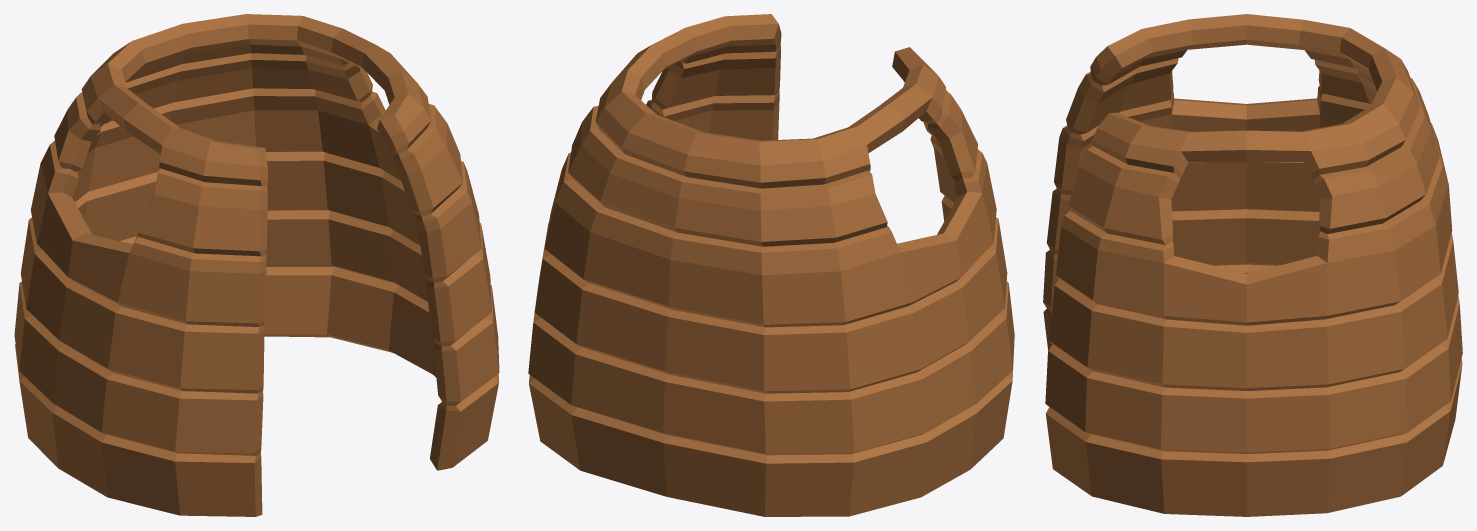
File: Body_PuffVest.fbx
3 views of the same model, side by side, from view 1: azimuth 30°, elevation 25°; view 2: azimuth 150°, elevation 25°; view 3: azimuth 270°, elevation 25° (orthographic).
Parts seen in each view (by area): view 1: Body_PuffVest; view 2: Body_PuffVest; view 3: Body_PuffVest.
Boxes of the visible parts, x1=… form: Body_PuffVest: x1=14, y1=14, x2=499, y2=516; Body_PuffVest: x1=528, y1=14, x2=1014, y2=516; Body_PuffVest: x1=1043, y1=14, x2=1462, y2=516.
Size of the model in its own units: 3.09 by 2.53 by 2.73.
